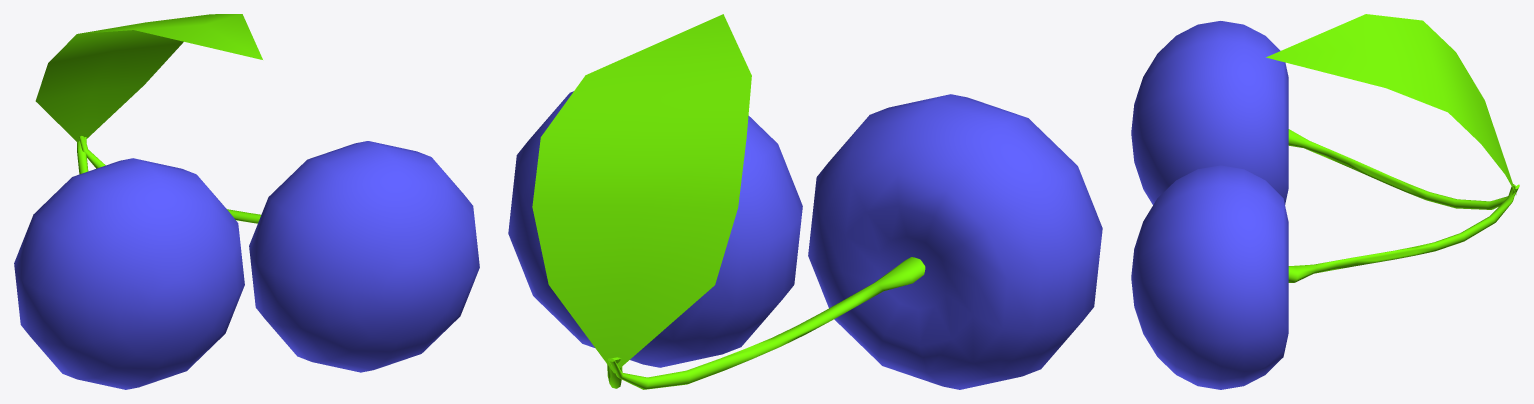
File: ToyObject_160.fbx
The picture shows the model from 3 angles, left to right: view 1: azimuth 30°, elevation 25°; view 2: azimuth 150°, elevation 25°; view 3: azimuth 270°, elevation 25°; orthographic projection. The views are drawn at different scales.
Visible parts, largest first — view 1: object-1.063; view 2: object-1.063; view 3: object-1.063.
Boxes of the visible parts, x1=… form: object-1.063: x1=14, y1=14, x2=479, y2=389; object-1.063: x1=508, y1=14, x2=1102, y2=389; object-1.063: x1=1131, y1=14, x2=1519, y2=389.
Size of the model in its own units: 0.1584 by 0.1065 by 0.1278.
